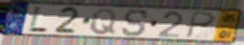2: (53, 6, 82, 36), (157, 10, 185, 39)
L: (27, 4, 50, 35)
P: (185, 11, 217, 39)
Q: (89, 8, 119, 36)
S: (121, 8, 150, 38)
